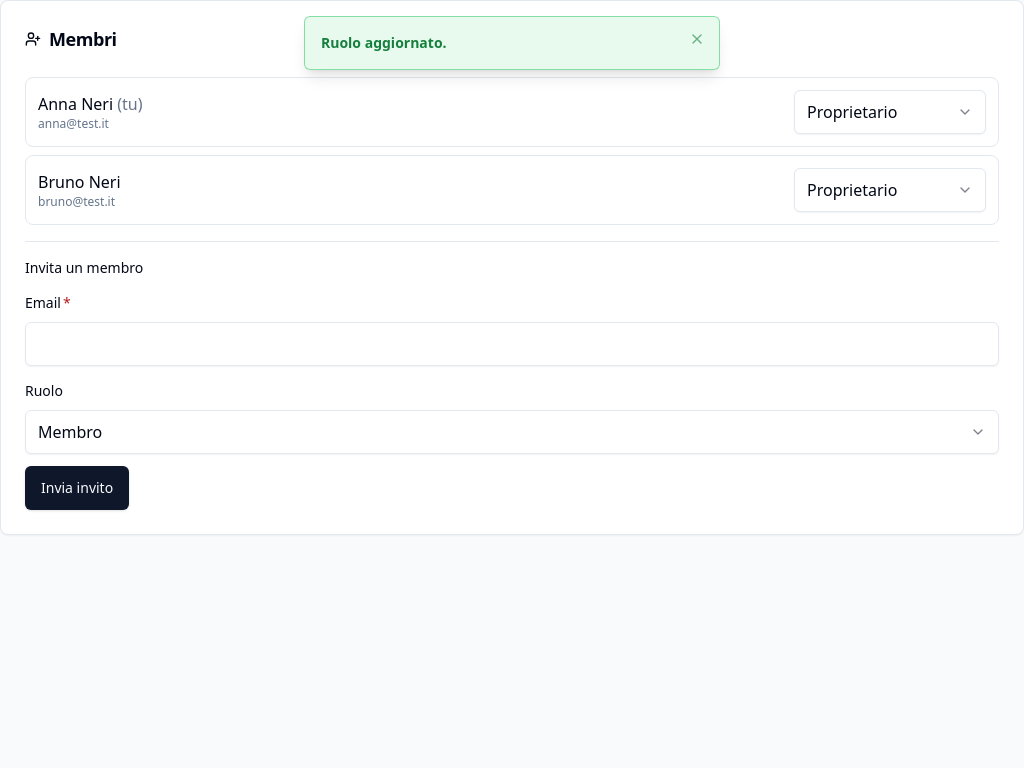
Test: MembersCard — cambio di ruolo › un errore del backend (ultimo owner) si mostra tradotto e non cambia nulla
Click the dropdown named "Cambia il ruolo di Bruno Neri".
click(890, 190)  # box left=794, top=168, right=986, bottom=212
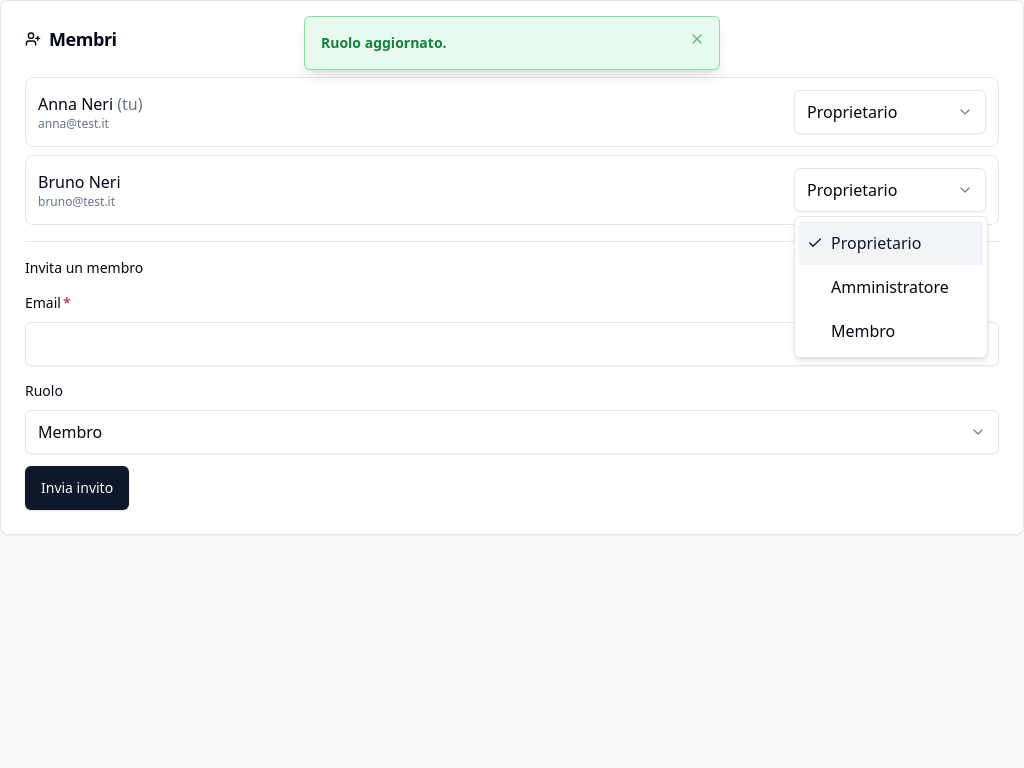
Click the option "Membro".
click(863, 331)  # box left=831, top=320, right=895, bottom=342
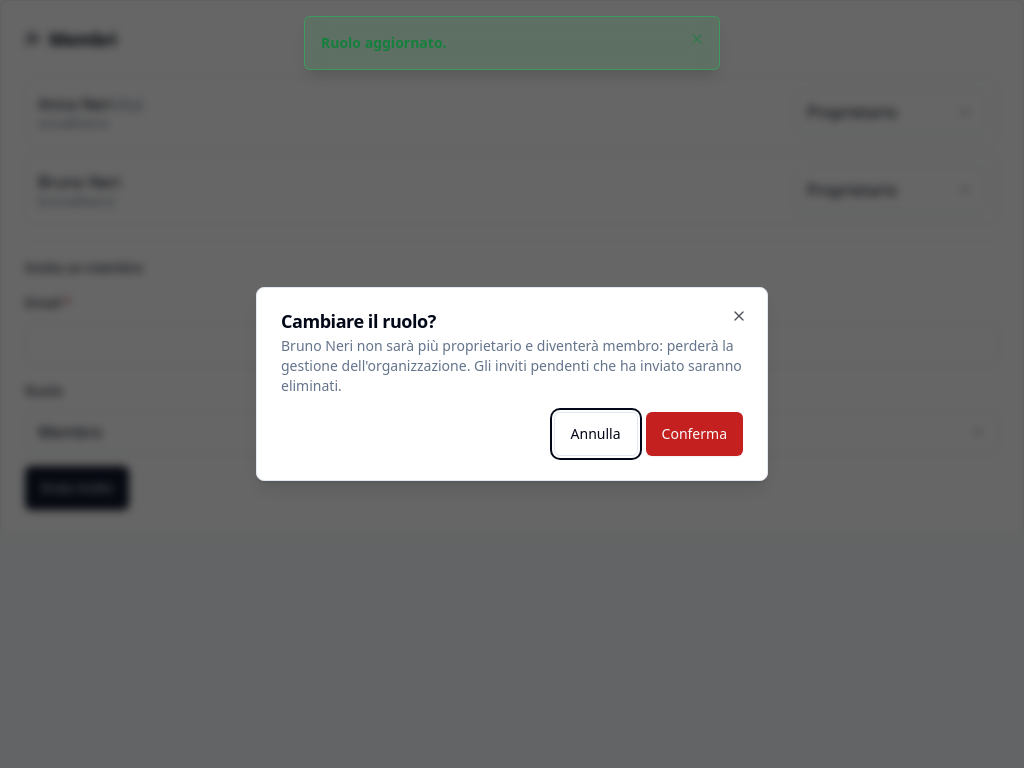
Click the button "Conferma".
click(694, 434)  # box left=646, top=412, right=743, bottom=456
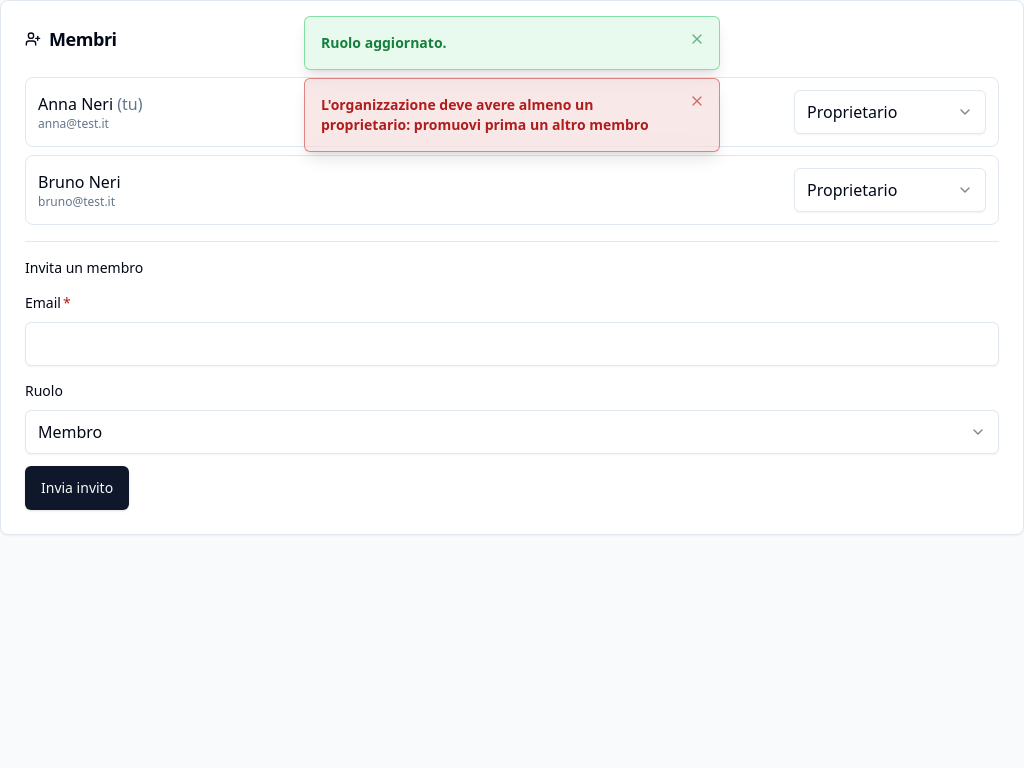
Now the text "almeno un proprietario" is shown, box left=321, top=95, right=649, bottom=134
